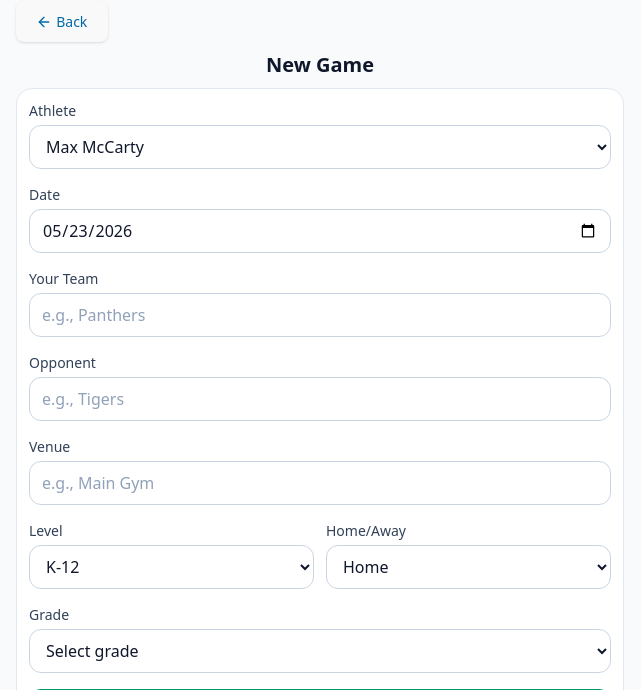
Test: GameNew Component › should render the AAU season dropdown when AAU / Travel is selected
Select "AAU / Travel" in the dropdown below "Level" at (172,567), box left=29, top=545, right=314, bottom=589
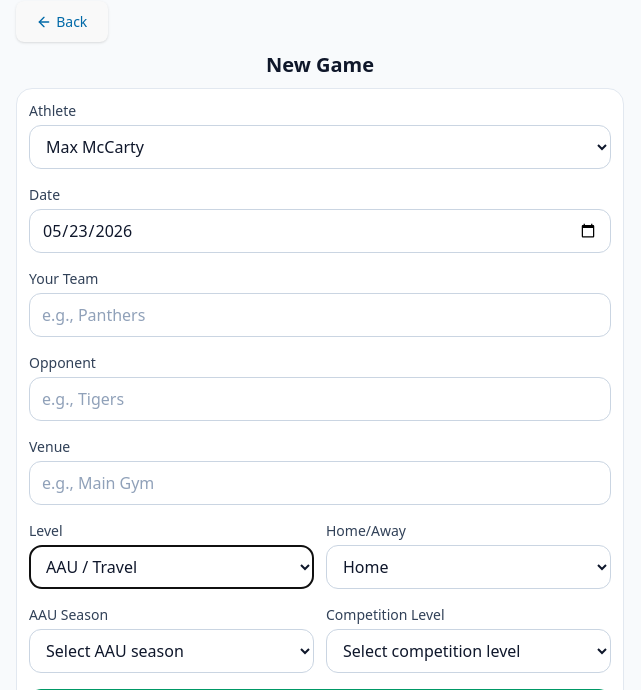
Result: the dropdown below "AAU Season" shows "Select AAU season" at left=29, top=629, right=314, bottom=673
Result: the dropdown below "Competition Level" shows "Select competition level" at left=326, top=629, right=611, bottom=673
